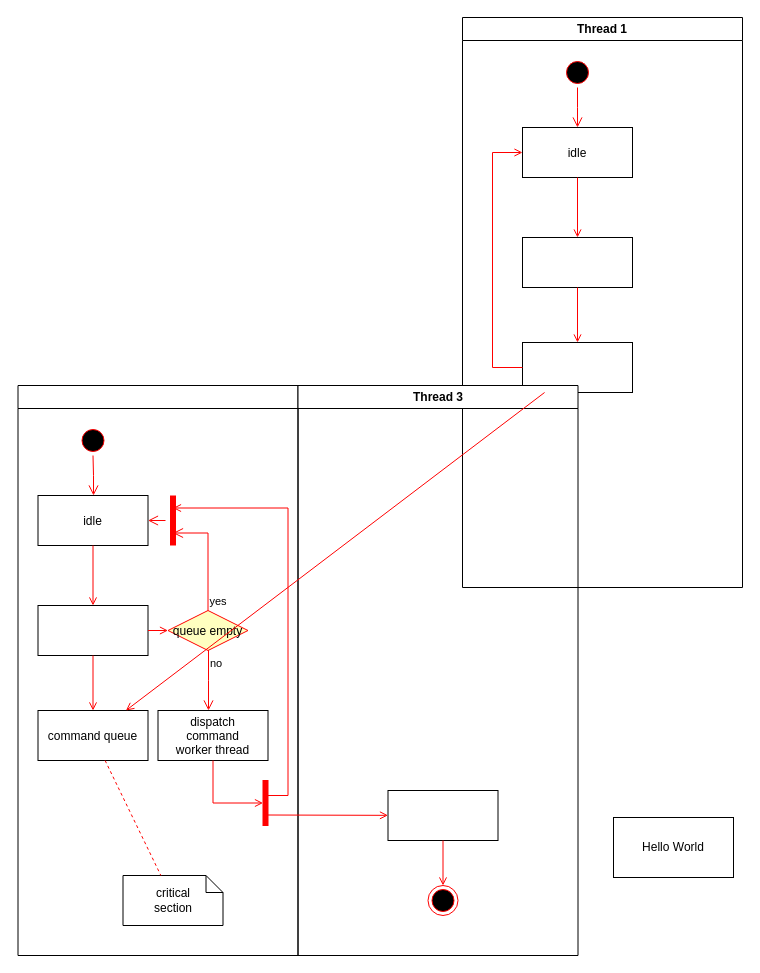
The diagram is 760 pixels wide and 973 high, and some of its shapes have lost their labels. The shapes that lost their labels are listed below. From the top down, each one's box as (x1, y1, x2, y2) in pixels, then its label:
(522, 236, 632, 288): user action
(522, 342, 632, 392): post command
(37, 604, 148, 656): check for new commands
(17, 384, 298, 956): Thread 2
(387, 790, 498, 840): process command
